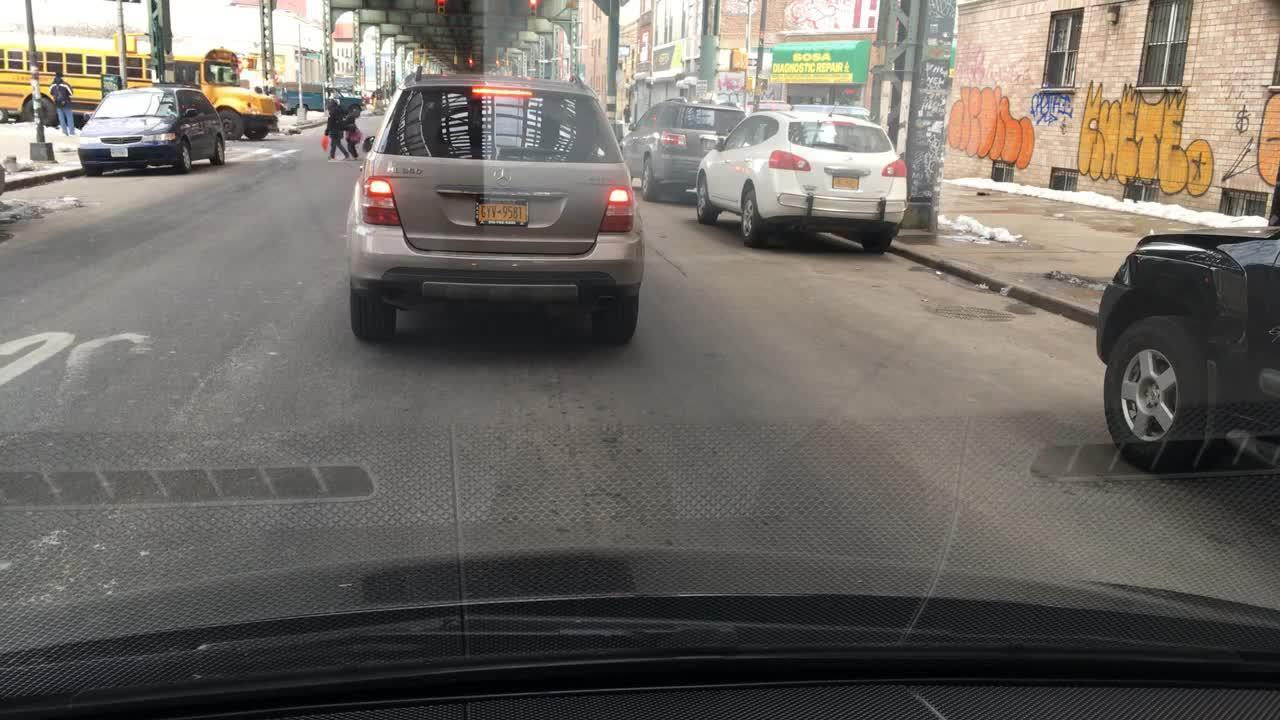Mercedes: (489, 162, 517, 196)
